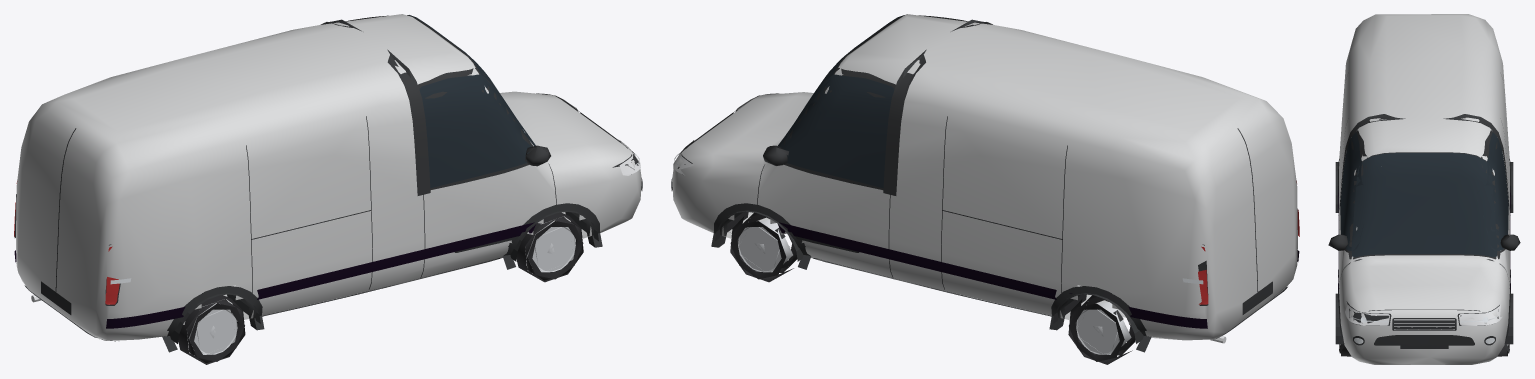
File: pro_demen_far.glb
3 renders of one model, left to right at view 1: azimuth 30°, elevation 25°; view 2: azimuth 150°, elevation 25°; view 3: azimuth 270°, elevation 25°, orthographic. The views are drawn at different scales.
Visible parts, largest first — view 1: Body, Glass-1, ProStripe-1, WheelRR, WheelFR, Bpillar-1, ArchTrim-1.001, ArchTrim-1, WinFrame-1, ArchLiner.003, ArchLiner.001; view 2: Body, Glass1, ProStripe1, WheelRL, WheelFL, Bpillar1, ArchTrim1.001, ArchTrim1, WinFrame1, ArchLiner.002, ArchLiner; view 3: Body, Windshield, Glass1, Glass-1, Intake, HeadReflector, Grille, WsFrame, HeadBezel, Bpillar-1, Bpillar1, ArchLiner (+8 smaller).
Boxes of the visible parts, left/top/right/bottom form: Body: left=16, top=14, right=641, bottom=340; Glass-1: left=419, top=74, right=535, bottom=188; ProStripe-1: left=106, top=222, right=535, bottom=328; WheelRR: left=178, top=295, right=245, bottom=364; WheelFR: left=516, top=212, right=583, bottom=282; Bpillar-1: left=387, top=49, right=430, bottom=195; ArchTrim-1.001: left=162, top=286, right=264, bottom=352; ArchTrim-1: left=502, top=203, right=602, bottom=269; WinFrame-1: left=418, top=68, right=532, bottom=189; ArchLiner.003: left=170, top=293, right=260, bottom=343; ArchLiner.001: left=509, top=210, right=598, bottom=261; Body: left=672, top=14, right=1297, bottom=340; Glass1: left=778, top=74, right=894, bottom=187; ProStripe1: left=778, top=222, right=1207, bottom=328; WheelRL: left=1068, top=295, right=1135, bottom=364; WheelFL: left=730, top=212, right=797, bottom=282; Bpillar1: left=883, top=49, right=926, bottom=195; ArchTrim1.001: left=1049, top=286, right=1151, bottom=352; ArchTrim1: left=711, top=203, right=811, bottom=269; WinFrame1: left=784, top=68, right=895, bottom=189; ArchLiner.002: left=1053, top=293, right=1143, bottom=343; ArchLiner: left=715, top=210, right=804, bottom=261; Body: left=1338, top=14, right=1510, bottom=364; Windshield: left=1351, top=153, right=1497, bottom=257; Glass1: left=1476, top=132, right=1508, bottom=250; Glass-1: left=1340, top=132, right=1363, bottom=250; Intake: left=1374, top=335, right=1474, bottom=345; HeadReflector: left=1345, top=305, right=1502, bottom=325; Grille: left=1392, top=318, right=1456, bottom=330; WsFrame: left=1348, top=152, right=1500, bottom=259; HeadBezel: left=1346, top=301, right=1499, bottom=325; Bpillar-1: left=1339, top=114, right=1405, bottom=209; Bpillar1: left=1443, top=114, right=1509, bottom=209; ArchLiner: left=1505, top=293, right=1513, bottom=344.
Size of the model in its own units: 5.62 by 2.29 by 2.15.
